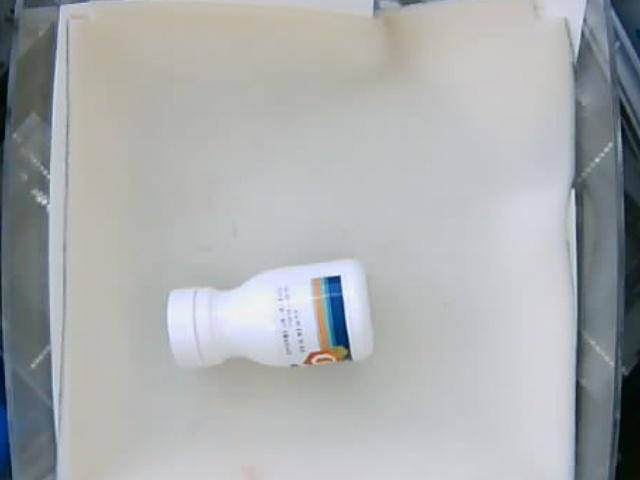Bottle: (162, 259, 376, 370)
